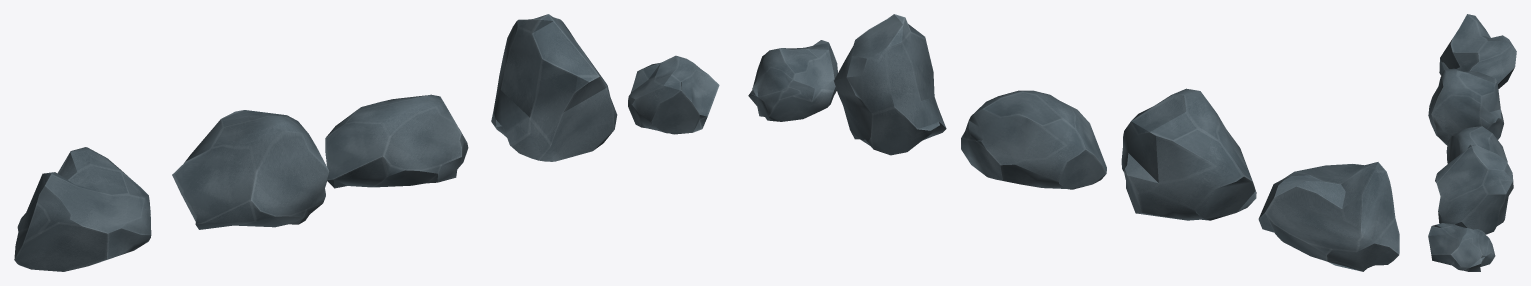
The model's file is rocks.glb.
3 renders of one model, left to right at view 1: azimuth 30°, elevation 25°; view 2: azimuth 150°, elevation 25°; view 3: azimuth 270°, elevation 25°, orthographic. The views are drawn at different scales.
Parts seen in each view (by area): view 1: Rock2, Rock3, Rock4, Rock1, Rock5; view 2: Rock2, Rock4, Rock1, Rock3, Rock5; view 3: Rock3, Rock2, Rock4, Rock5, Rock1.
Boxes of the visible parts, <box> form: Rock2: <box>172,110,329,229</box>; Rock3: <box>491,14,617,161</box>; Rock4: <box>14,147,151,271</box>; Rock1: <box>325,94,468,188</box>; Rock5: <box>628,55,719,134</box>; Rock2: <box>1121,88,1256,220</box>; Rock4: <box>1258,162,1399,271</box>; Rock1: <box>961,90,1106,189</box>; Rock3: <box>834,14,946,155</box>; Rock5: <box>748,40,837,121</box>; Rock3: <box>1435,144,1513,234</box>; Rock2: <box>1428,68,1503,145</box>; Rock4: <box>1439,14,1516,89</box>; Rock5: <box>1428,223,1495,271</box>; Rock1: <box>1446,126,1507,163</box>.
Size of the model in its own units: 9.77 by 1.84 by 1.74.
Materials: 1 (1 with a texture image).
